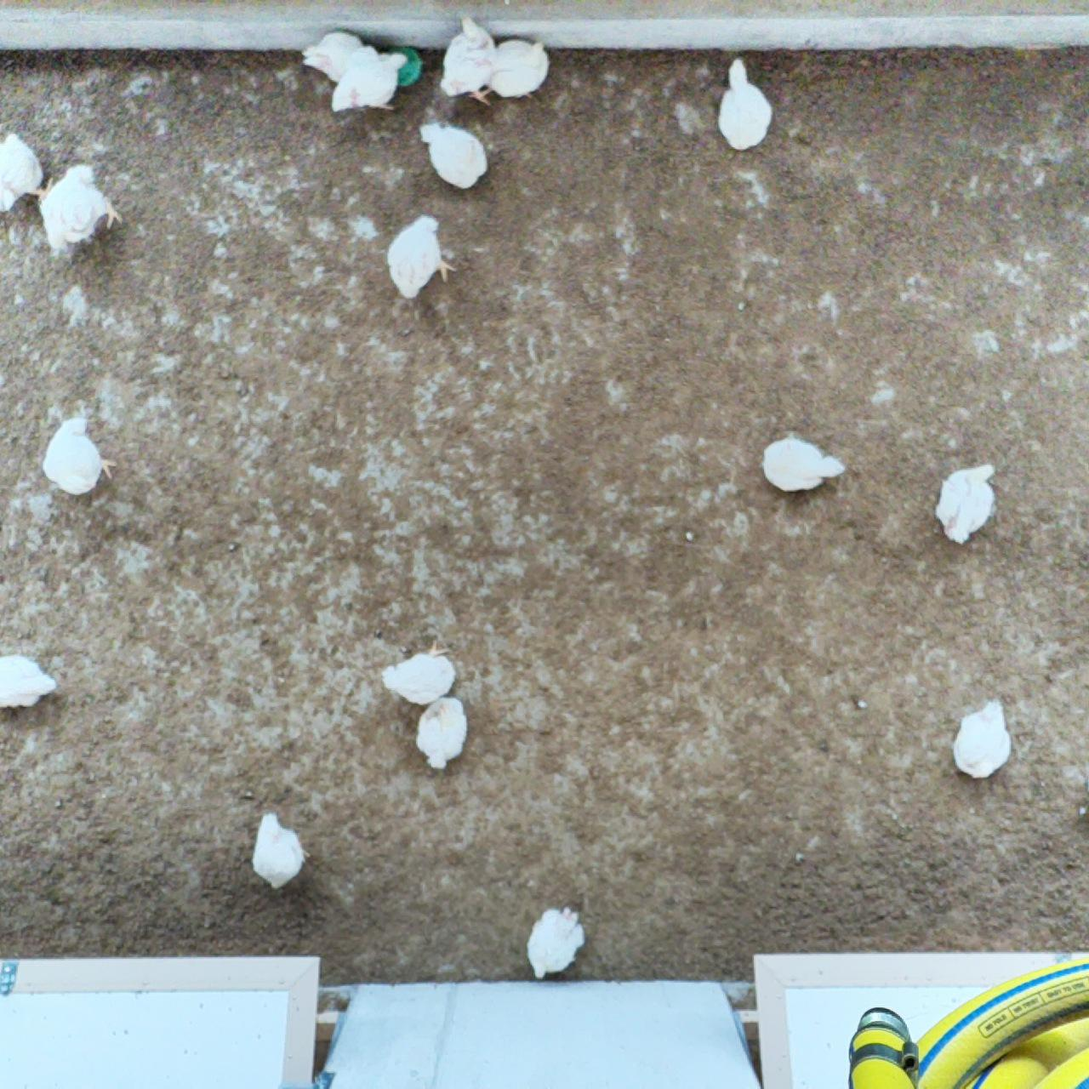chicken: (37, 158, 127, 256), (36, 410, 122, 498), (383, 208, 462, 302), (436, 7, 500, 113), (325, 41, 411, 119), (711, 54, 776, 157), (932, 459, 1005, 550), (759, 431, 848, 503), (415, 114, 495, 194), (947, 694, 1016, 786), (245, 804, 314, 895), (376, 634, 458, 710), (522, 902, 593, 986), (0, 127, 53, 229), (484, 35, 554, 107), (412, 687, 472, 771), (297, 25, 371, 81), (0, 650, 61, 717)
